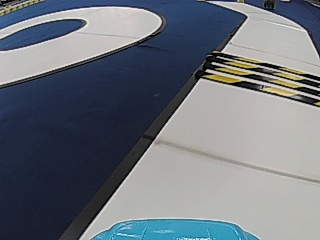bump: (211, 52, 319, 107)
